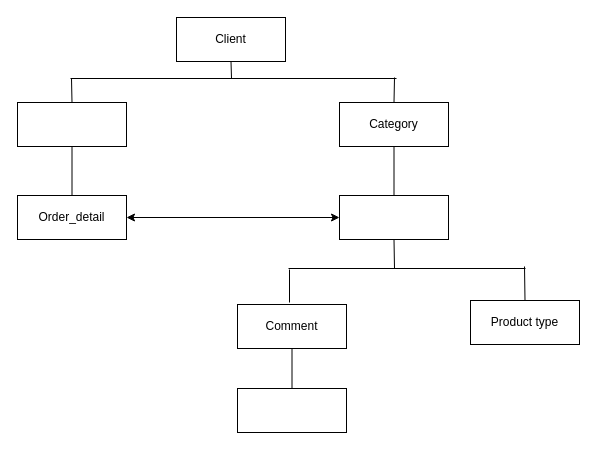
Image size: 597x450. Some labels were removed from this diagram. Each missing label, with the centre of its shape:
"Customer" goes at point 291,410.
"Order" goes at point 71,124.
"Product" goes at point 393,217.
